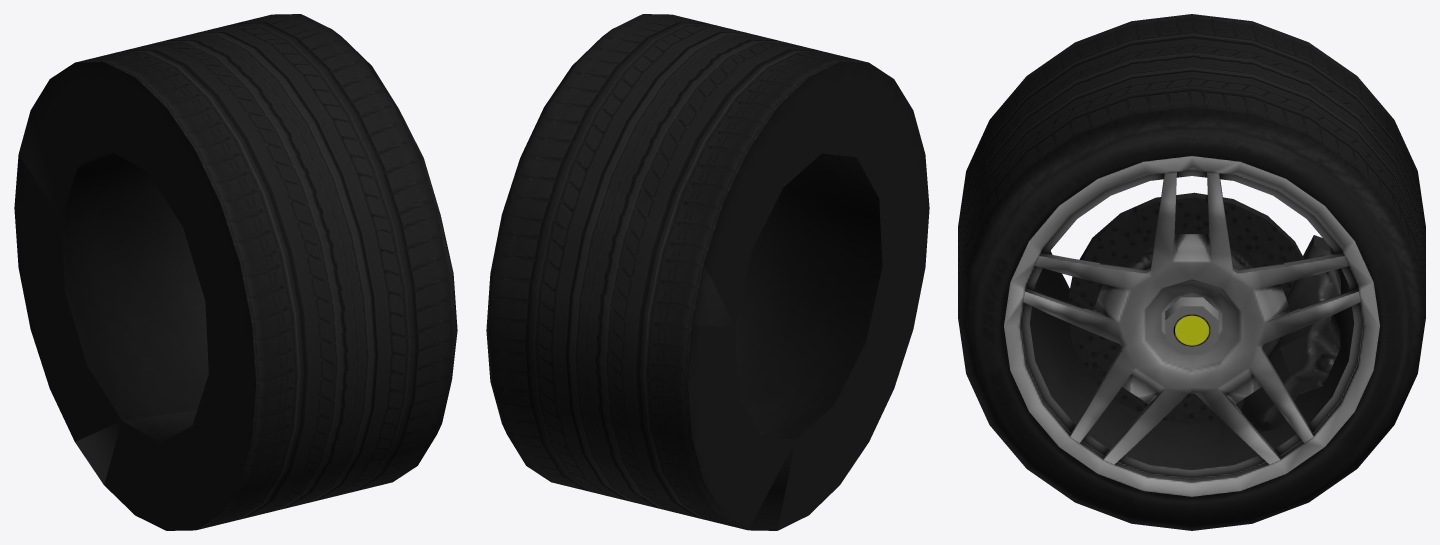
Rendered from WP10_wheelpack.glb.
3 views of the same model, side by side, from view 1: azimuth 30°, elevation 25°; view 2: azimuth 150°, elevation 25°; view 3: azimuth 270°, elevation 25° (orthographic). The views are drawn at different scales.
Parts seen in each view (by area): view 1: MOD_ND_WP10_tyre, MOD_ND_WP10_rim; view 2: MOD_ND_WP10_tyre, MOD_ND_WP10_rim; view 3: MOD_ND_WP10_tyre, MOD_ND_WP10_rim, MOD_ND_WP10_brakes.
Boxes of the visible parts, x1,y1,x2,y2 form: MOD_ND_WP10_tyre: [14, 14, 457, 530]; MOD_ND_WP10_rim: [61, 150, 208, 442]; MOD_ND_WP10_tyre: [486, 14, 929, 530]; MOD_ND_WP10_rim: [735, 153, 882, 439]; MOD_ND_WP10_tyre: [958, 14, 1425, 530]; MOD_ND_WP10_rim: [1004, 156, 1379, 496]; MOD_ND_WP10_brakes: [1067, 192, 1340, 432].
Size of the model in its own units: 0.3393 by 0.6414 by 0.6414.
2 materials, 2 textured.
